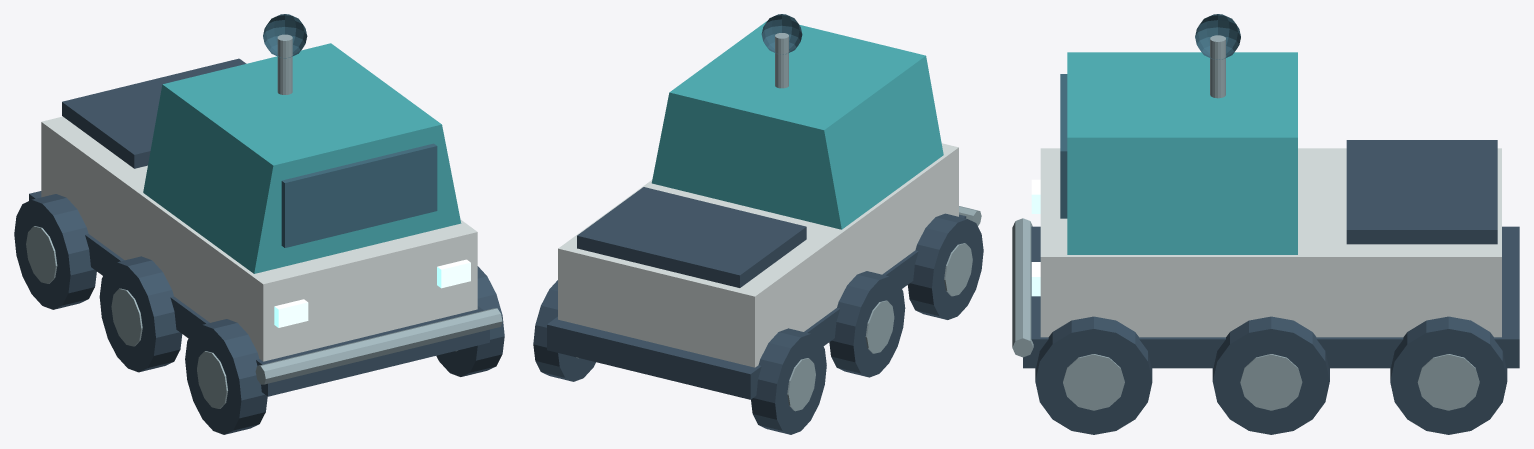
Rendered from orbital-field-station-six-wheel-survey-rover__147.glb.
3 renders of one model, left to right at view 1: azimuth 30°, elevation 25°; view 2: azimuth 150°, elevation 25°; view 3: azimuth 270°, elevation 25°, orthographic. The views are drawn at different scales.
Parts seen in each view (by area): view 1: accent, shell, dark, glass, metal, light; view 2: accent, dark, shell, metal, glass; view 3: dark, accent, shell, metal, glass, light.
Boxes of the visible parts, bbox=[...] form: accent: bbox=[143, 43, 461, 273]; shell: bbox=[41, 116, 477, 361]; dark: bbox=[14, 58, 504, 434]; glass: bbox=[263, 14, 437, 247]; metal: bbox=[26, 34, 502, 408]; light: bbox=[274, 259, 470, 327]; accent: bbox=[651, 20, 943, 229]; dark: bbox=[533, 187, 983, 434]; shell: bbox=[558, 143, 958, 367]; metal: bbox=[576, 33, 981, 411]; glass: bbox=[761, 14, 802, 54]; dark: bbox=[1023, 140, 1519, 434]; accent: bbox=[1067, 52, 1297, 254]; shell: bbox=[1040, 148, 1501, 337]; metal: bbox=[1012, 35, 1479, 410]; glass: bbox=[1060, 14, 1240, 218]; light: bbox=[1031, 179, 1040, 296].
Bounding box in the file's own units: 1.8 × 2.19 × 2.86.
